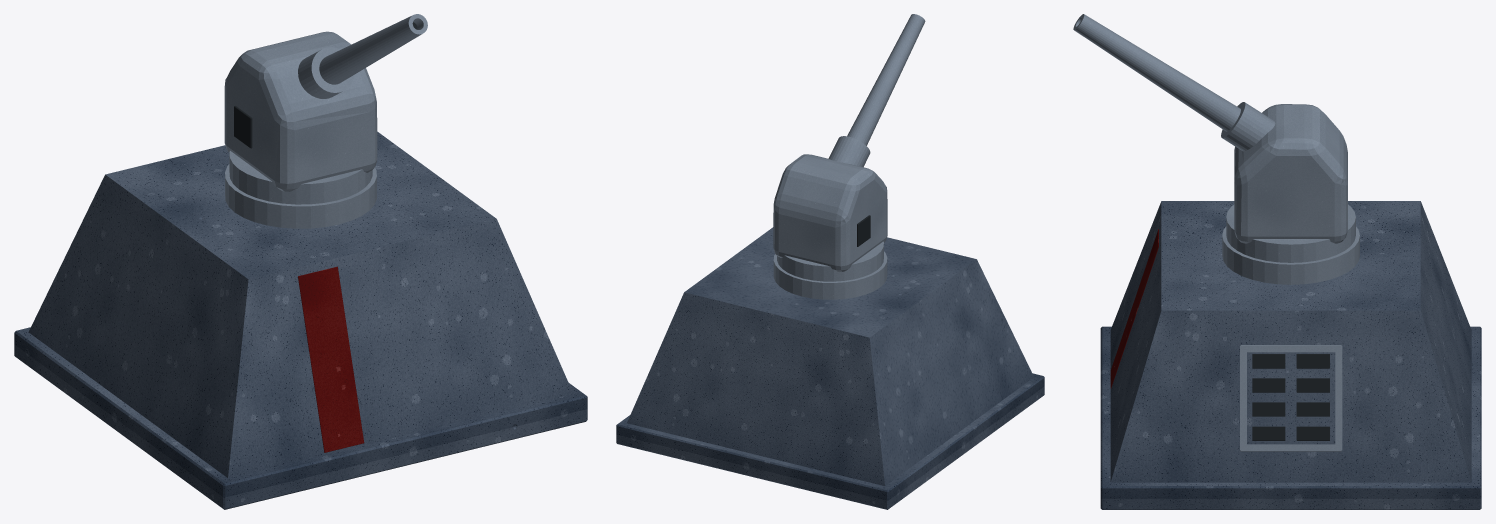
The picture shows the model from 3 angles, left to right: view 1: azimuth 30°, elevation 25°; view 2: azimuth 150°, elevation 25°; view 3: azimuth 270°, elevation 25°; orthographic projection. The views are drawn at different scales.
Parts seen in each view (by area): view 1: Defence Pods truncated square concrete base, Defence Pods grounded low rectangular foot, Defence Pods compact directional head, Defence Pods broad red strip, Defence Pods fixed supported bearing, Defence Pods moving bearing, Defence Pods single long barrel, Defence Pods seated barrel collar; view 2: Defence Pods truncated square concrete base, Defence Pods grounded low rectangular foot, Defence Pods compact directional head, Defence Pods single long barrel, Defence Pods fixed supported bearing, Defence Pods moving bearing, Defence Pods seated barrel collar; view 3: Defence Pods truncated square concrete base, Defence Pods grounded low rectangular foot, Defence Pods compact directional head, Defence Pods single long barrel, Defence Pods fixed supported bearing, Defence Pods moving bearing, Defence Pods seated barrel collar, Defence Pods broad red strip, Defence Pods vent frame 1, Defence Pods vent frame 2, Defence Pods vent frame 3, Defence Pods vent frame 0 (+8 smaller).
Boxes of the visible parts, x1=… form: Defence Pods truncated square concrete base: x1=28, y1=131, x2=573, y2=477; Defence Pods grounded low rectangular foot: x1=14, y1=327, x2=587, y2=509; Defence Pods compact directional head: x1=224, y1=31, x2=377, y2=191; Defence Pods broad red strip: x1=298, y1=266, x2=364, y2=452; Defence Pods fixed supported bearing: x1=225, y1=164, x2=376, y2=228; Defence Pods moving bearing: x1=229, y1=151, x2=372, y2=204; Defence Pods single long barrel: x1=319, y1=14, x2=427, y2=84; Defence Pods seated barrel collar: x1=298, y1=47, x2=353, y2=98; Defence Pods truncated square concrete base: x1=627, y1=227, x2=1033, y2=485; Defence Pods grounded low rectangular foot: x1=616, y1=373, x2=1044, y2=509; Defence Pods compact directional head: x1=773, y1=154, x2=887, y2=271; Defence Pods single long barrel: x1=847, y1=14, x2=925, y2=145; Defence Pods fixed supported bearing: x1=773, y1=251, x2=887, y2=299; Defence Pods moving bearing: x1=777, y1=241, x2=883, y2=281; Defence Pods seated barrel collar: x1=828, y1=136, x2=870, y2=167; Defence Pods truncated square concrete base: x1=1110, y1=201, x2=1471, y2=482; Defence Pods grounded low rectangular foot: x1=1100, y1=326, x2=1481, y2=509; Defence Pods compact directional head: x1=1234, y1=104, x2=1347, y2=243; Defence Pods single long barrel: x1=1073, y1=14, x2=1240, y2=131; Defence Pods fixed supported bearing: x1=1222, y1=226, x2=1359, y2=284; Defence Pods moving bearing: x1=1226, y1=204, x2=1355, y2=262; Defence Pods seated barrel collar: x1=1221, y1=102, x2=1275, y2=151; Defence Pods broad red strip: x1=1110, y1=229, x2=1158, y2=388; Defence Pods vent frame 1: x1=1335, y1=346, x2=1342, y2=450; Defence Pods vent frame 2: x1=1240, y1=444, x2=1341, y2=451; Defence Pods vent frame 3: x1=1240, y1=345, x2=1341, y2=352; Defence Pods vent frame 0: x1=1240, y1=346, x2=1246, y2=450.
Bounding box in the file's own units: 1.88 × 2.26 × 2.01.
Materials: 4 (3 with a texture image).
